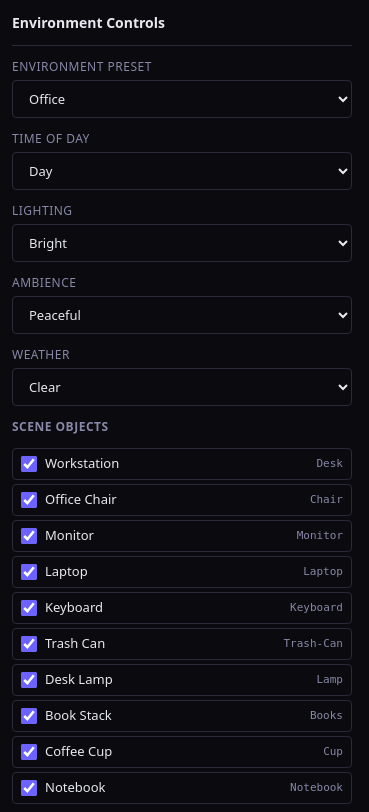
Test: EnvironmentControlPanel — hasChanges guard › Apply button is enabled after an object toggle change
Click the checkbox with test id "checkbox-obj-001".
click(29, 464)  # box left=21, top=456, right=37, bottom=472
(page scrolled)
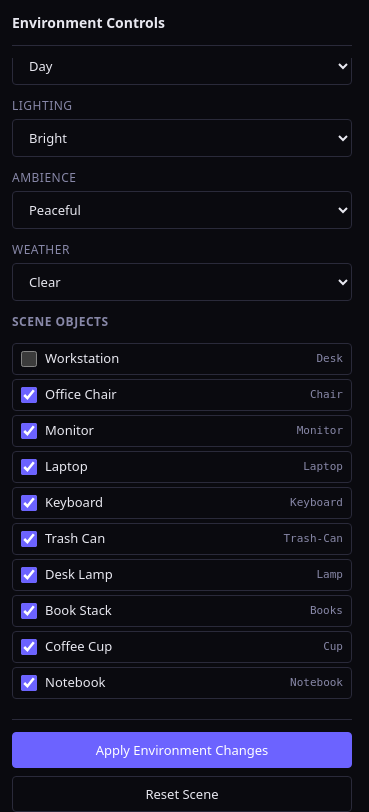
Result: the button with test id "btn-apply-environment" is enabled at left=12, top=732, right=352, bottom=768
